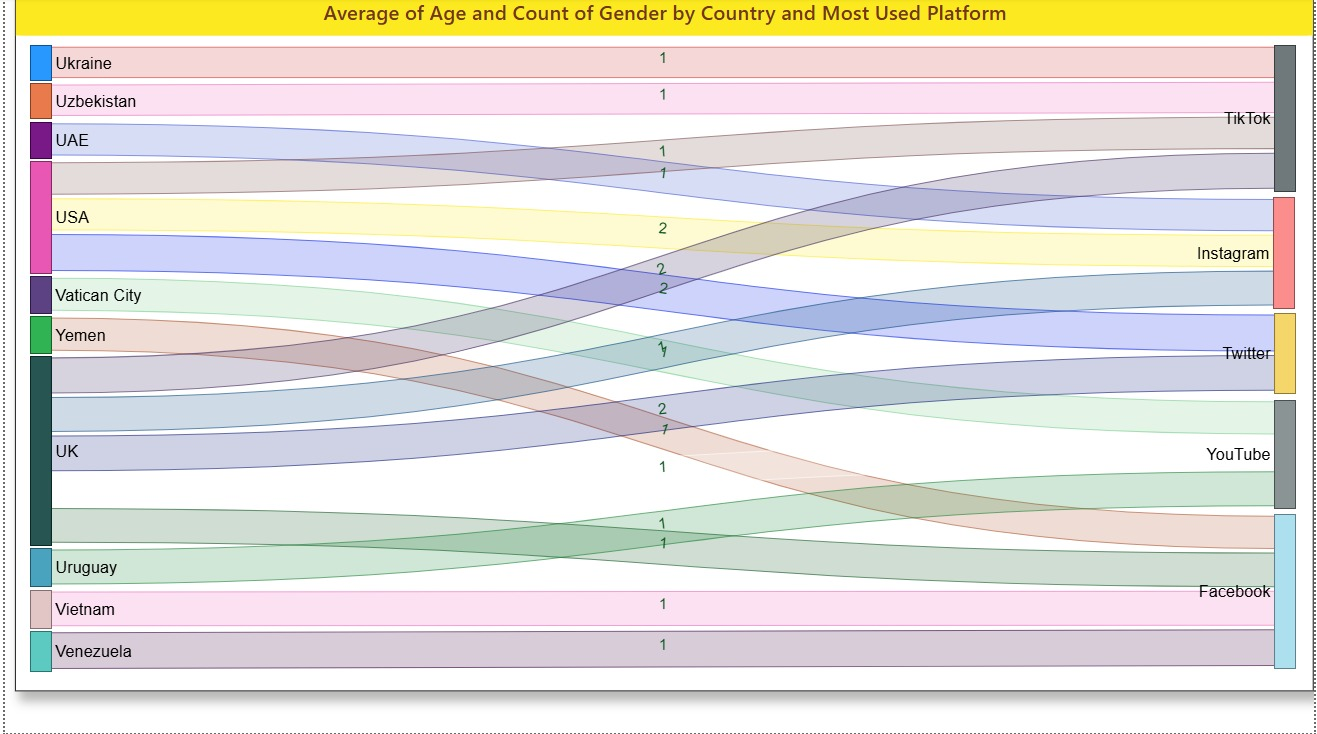

Layout of this report page (visuals, bound fields, positions):
{"tool":"powerbi","page":{"name":"Visual repr","canvas":[1280,720],"ordinal":1},"visuals":[{"type":"sankey02300D1BE6F5427989F3DE31CCA9E0F32020","title":"Average of Age and Count of Gender by Country and Most Used Platform","fields":{"Source":["Students Social Media Addiction.Country"],"SourceLabels":["Count(Students Social Media Addiction.Gender)"],"Destination":["Students Social Media Addiction.Most_Used_Platform"],"Weight":["Avg(Students Social Media Addiction.Age)"]},"box":[9.6,0,1270.7,679.2],"z":0}]}

Visuals, with their boxes in screenshot pixels (x1, y1, x2, y2), scaled from the page's 1280x720 canvas onto the 1317x734 screenshot:
"Average of Age and Count of Gender by Country and Most Used Platform" sankey02300D1BE6F5427989F3DE31CCA9E0F32020: {"left": 10, "top": 0, "right": 1316, "bottom": 692}
